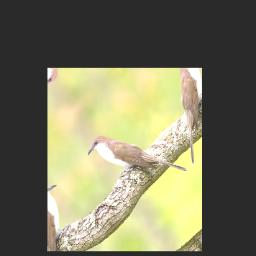Cuckoo: (83, 98, 189, 222)
